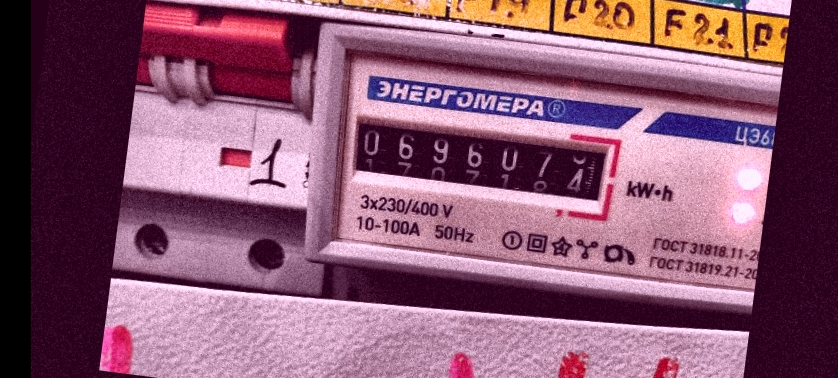0: (499, 140, 521, 172), (361, 126, 382, 156)
4: (566, 164, 585, 194)
6: (464, 138, 487, 169), (396, 129, 418, 159)
7: (534, 147, 555, 179)
9: (430, 135, 451, 164)
screen: (335, 96, 629, 221)
